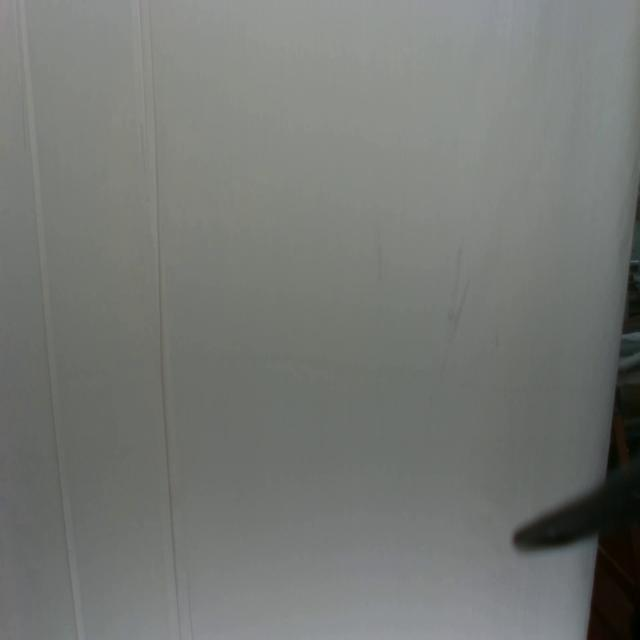crease: (14, 1, 82, 639), (150, 25, 180, 636), (137, 3, 149, 142), (185, 561, 194, 640)
